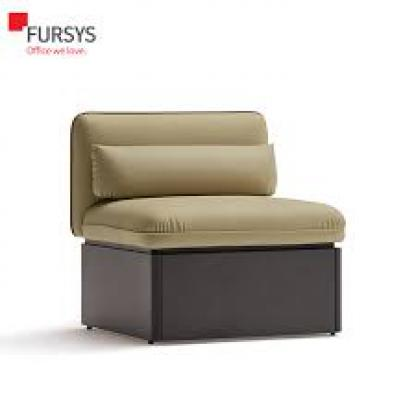sofa: (74, 115, 348, 336)
